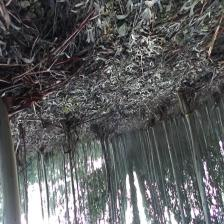trunk: (179, 92, 211, 218), (1, 96, 22, 223), (162, 115, 181, 189), (65, 129, 77, 216), (40, 153, 50, 213)
